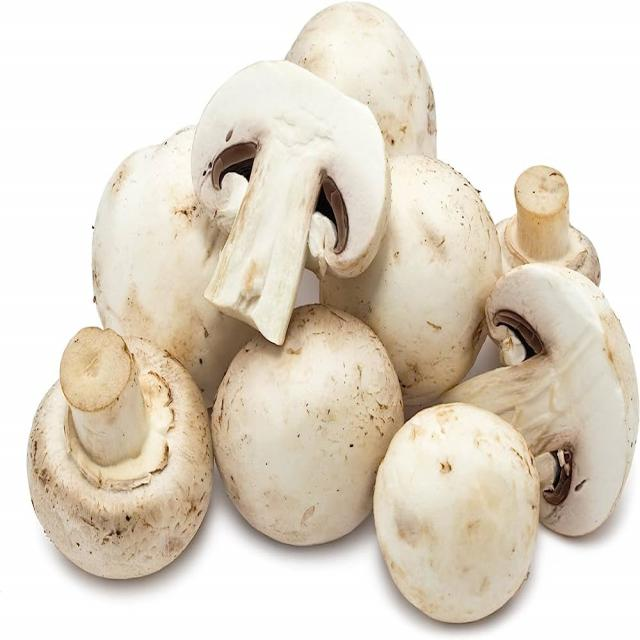Mushroom: (12, 46, 617, 613)
